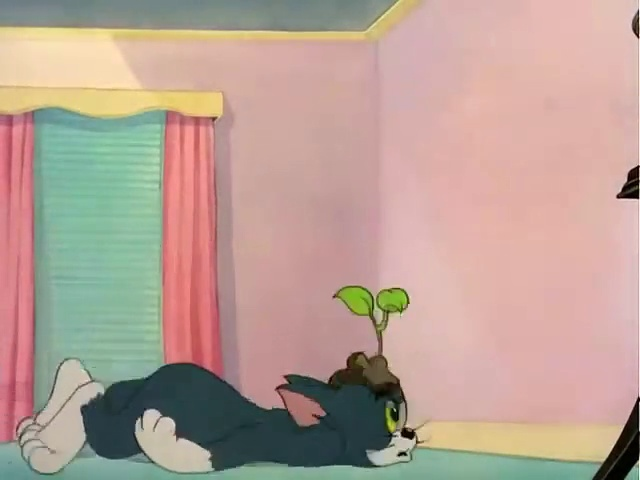tom: (25, 281, 448, 468)
